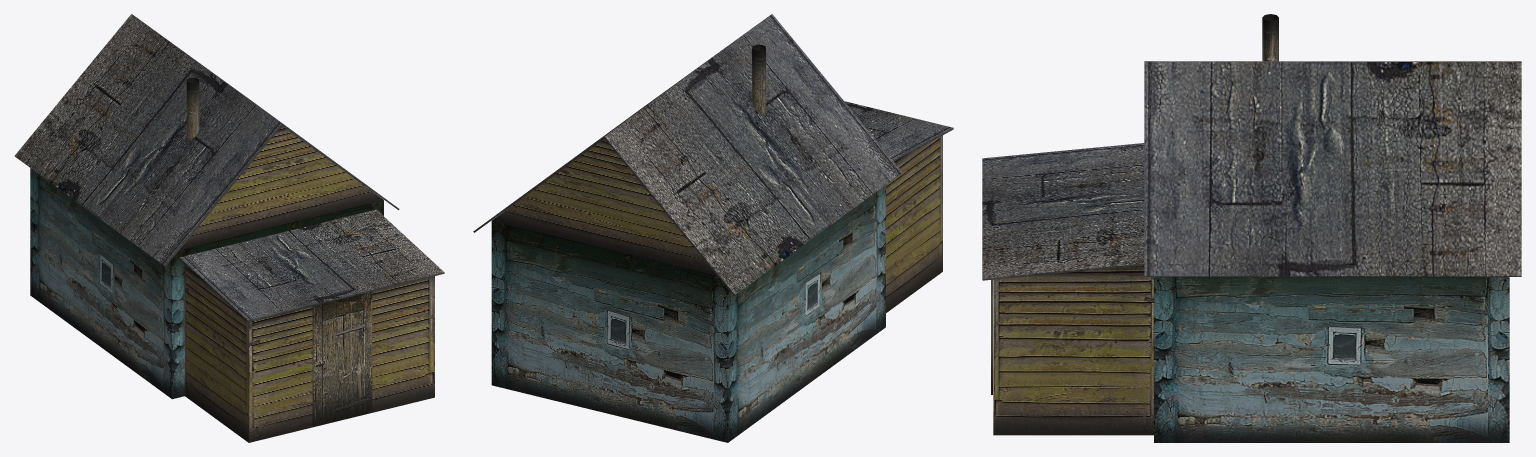
File: sibir_bania.FBX
3 views of the same model, side by side, from view 1: azimuth 30°, elevation 25°; view 2: azimuth 150°, elevation 25°; view 3: azimuth 270°, elevation 25° (orthographic). The views are drawn at different scales.
Parts seen in each view (by area): view 1: sibir_bania; view 2: sibir_bania; view 3: sibir_bania.
Boxes of the visible parts, x1,y1,x2,y2 form: sibir_bania: (14,14,444,442); sibir_bania: (473,14,953,442); sibir_bania: (982,14,1521,442).
Size of the model in its own units: 333 by 527 by 363.
